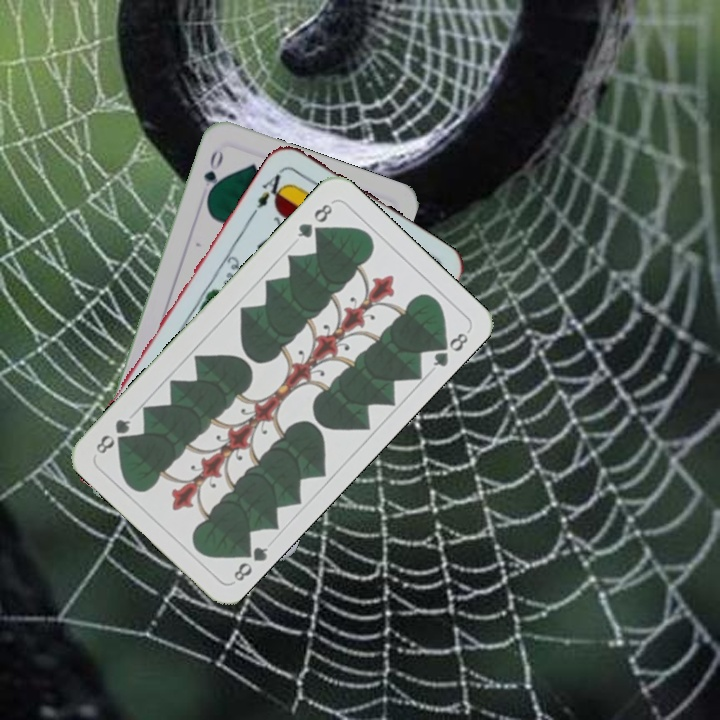EA: (248, 164, 290, 217)
G8: (229, 539, 271, 584), (293, 198, 336, 241)
GO: (199, 145, 226, 202)
